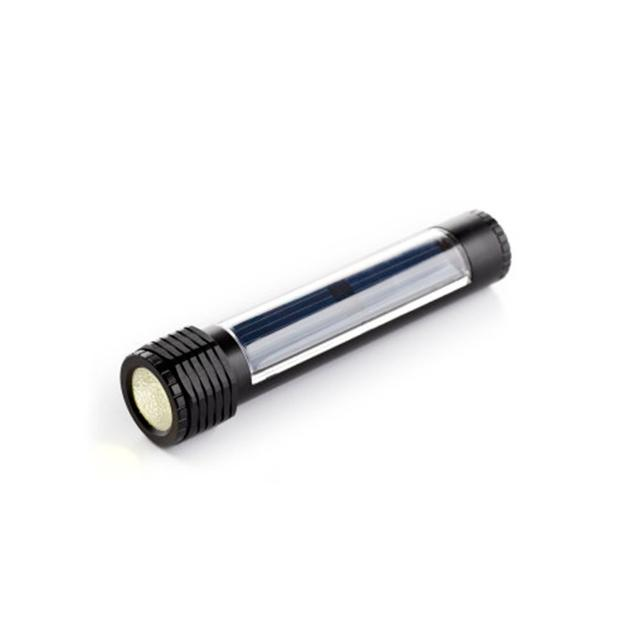Flashlight: (112, 204, 518, 454)
